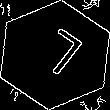L_SW: (25, 26, 85, 84)
